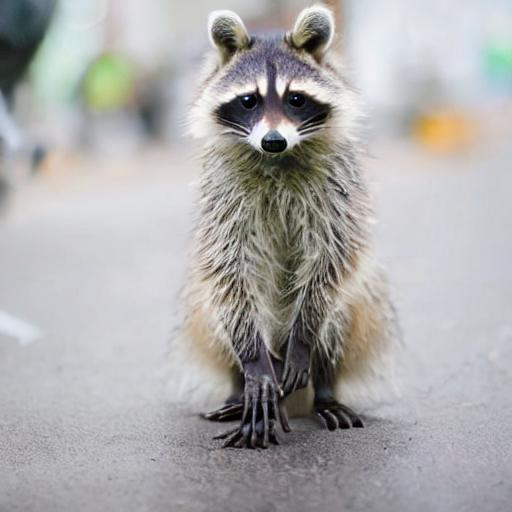raccoon: (173, 5, 411, 406)
